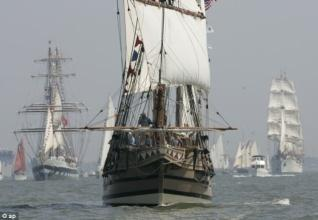fanchuan: (100, 1, 231, 205), (25, 38, 94, 178), (264, 69, 308, 181)
